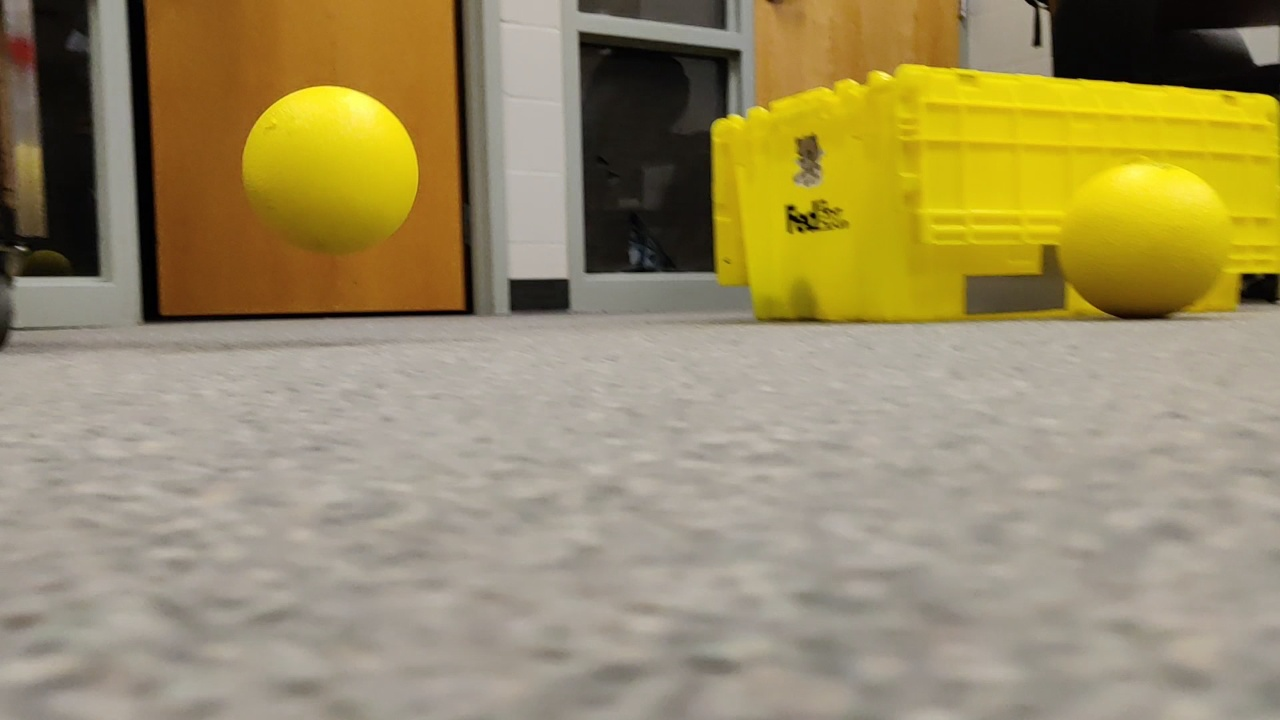Ball: (236, 80, 420, 257), (1063, 162, 1232, 312)
